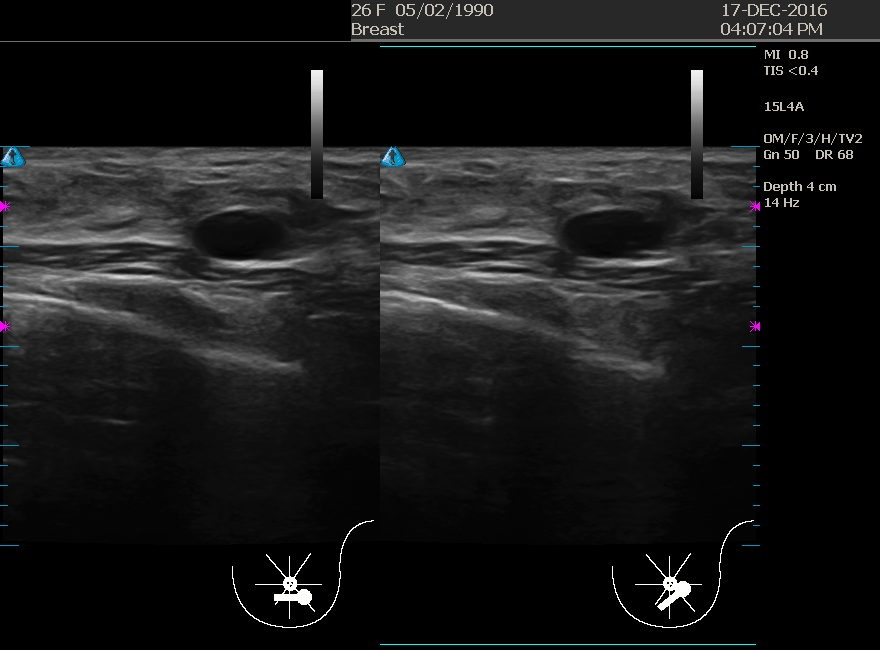Benign: (149, 199, 349, 399), (520, 202, 720, 402)
